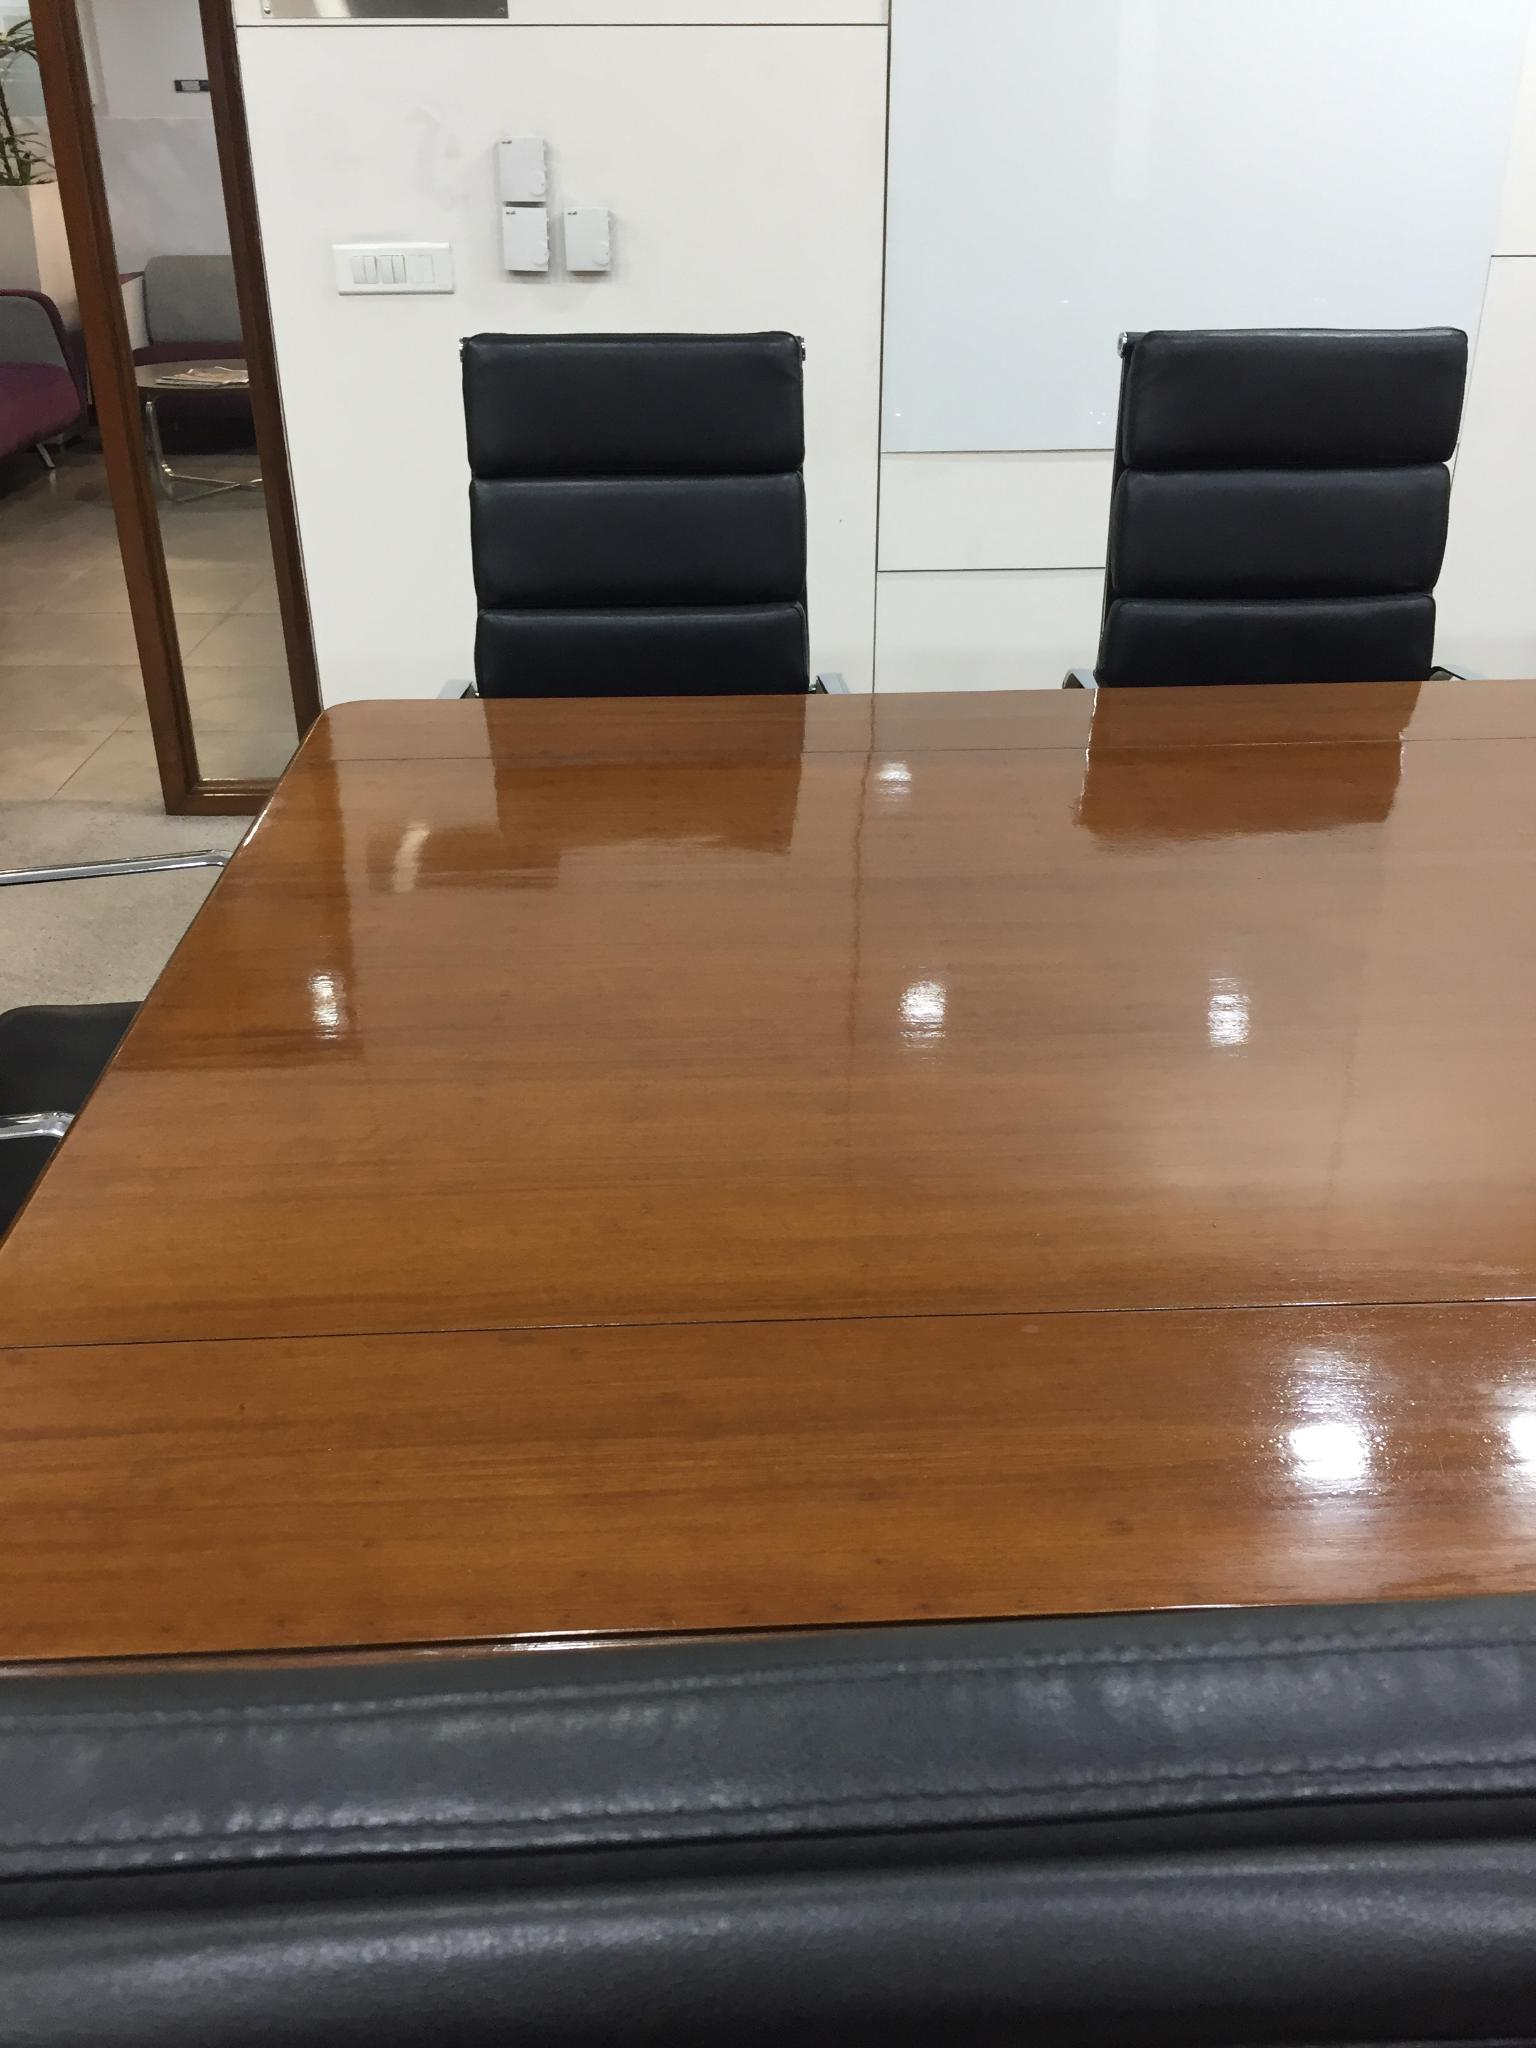chair: (1066, 324, 1470, 685), (458, 329, 815, 697), (124, 253, 261, 503), (0, 289, 87, 485)
